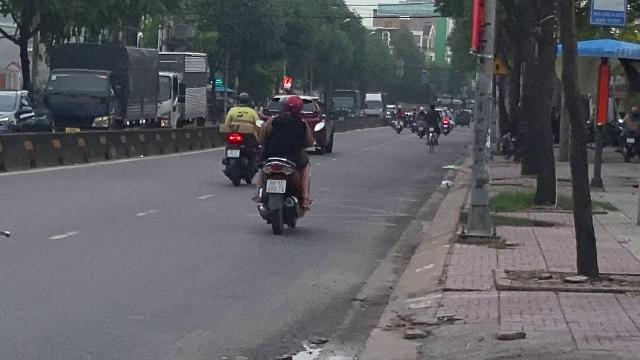helmet: (282, 94, 304, 114)
licenseplate: (266, 180, 286, 193)
motorcyclist: (251, 93, 317, 234)
